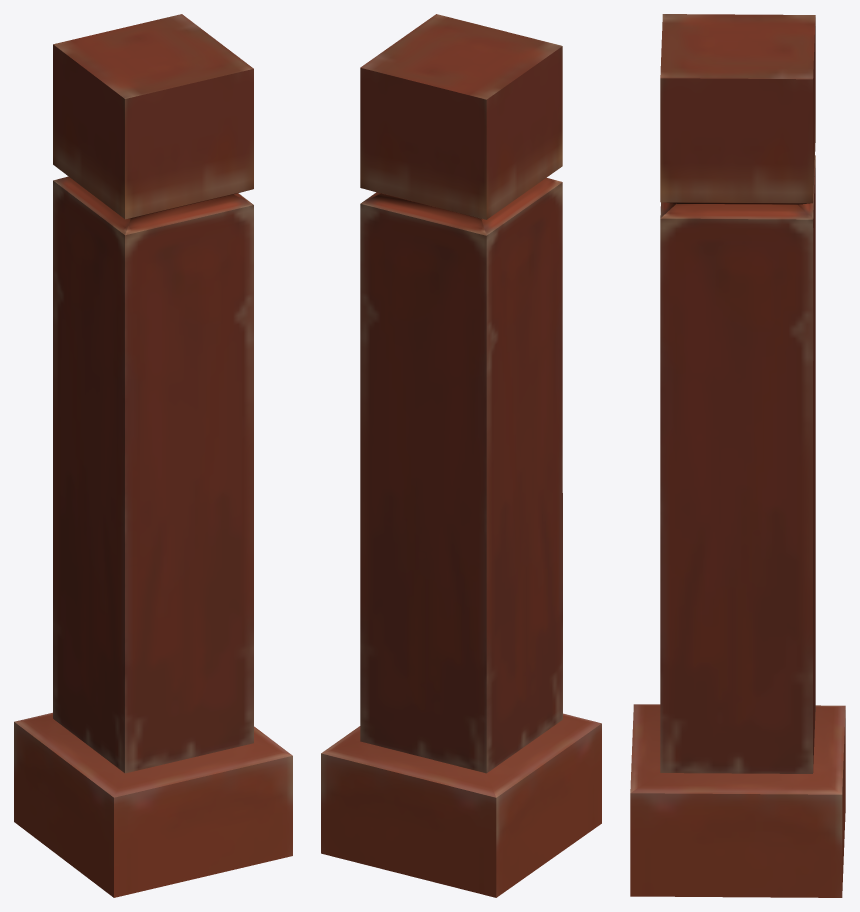
The model's file is ZYbui_CLF_langan01.FBX.
3 views of the same model, side by side, from view 1: azimuth 30°, elevation 25°; view 2: azimuth 150°, elevation 25°; view 3: azimuth 270°, elevation 25° (orthographic). The views are drawn at different scales.
Parts seen in each view (by area): view 1: ZYbui_CLF_langan01; view 2: ZYbui_CLF_langan01; view 3: ZYbui_CLF_langan01.
Boxes of the visible parts, x1,y1,x2,y2 form: ZYbui_CLF_langan01: [14, 14, 292, 897]; ZYbui_CLF_langan01: [321, 14, 601, 897]; ZYbui_CLF_langan01: [630, 14, 845, 897].
Size of the model in its own units: 23.09 by 95.87 by 23.21.
